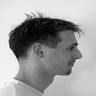ear: (30, 39, 51, 62)
